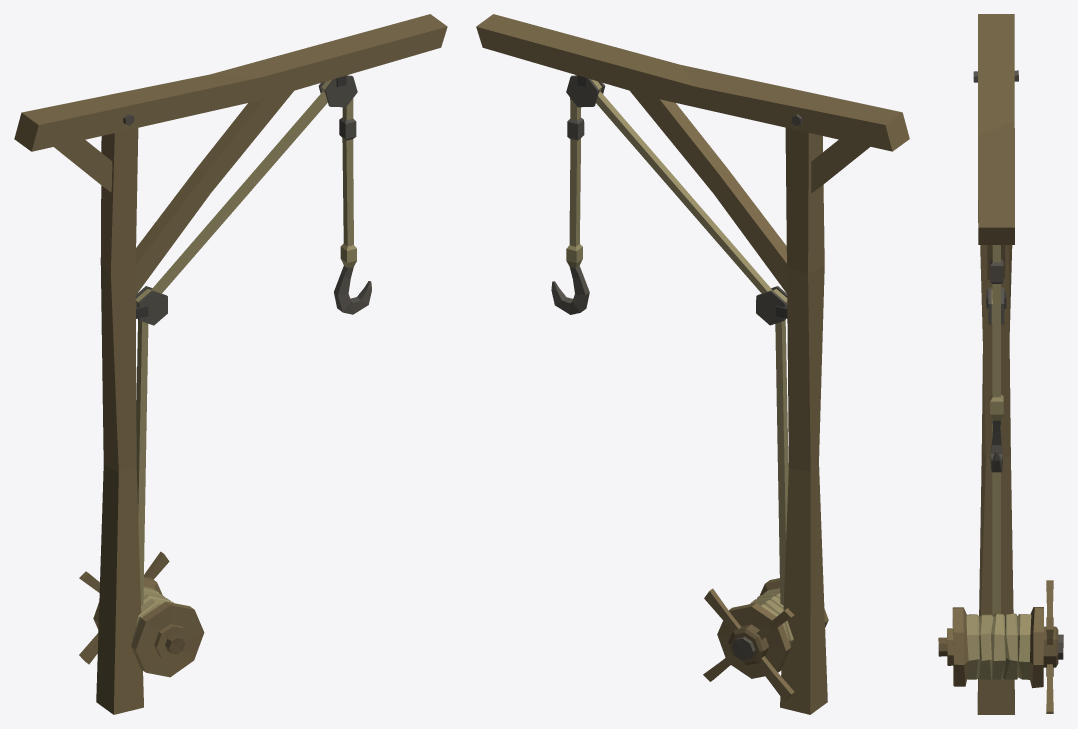
File: Crane_1.fbx
The picture shows the model from 3 angles, left to right: view 1: azimuth 30°, elevation 25°; view 2: azimuth 150°, elevation 25°; view 3: azimuth 270°, elevation 25°; orthographic projection. The views are drawn at different scales.
Visible parts, largest first — view 1: Crane_1; view 2: Crane_1; view 3: Crane_1.
Part boxes in pixels (box(x1,y1,x2,y2)): Crane_1: box(14, 14, 447, 714); Crane_1: box(476, 14, 909, 714); Crane_1: box(938, 14, 1063, 714).
Size of the model in its own units: 338 by 472 by 82.98.
